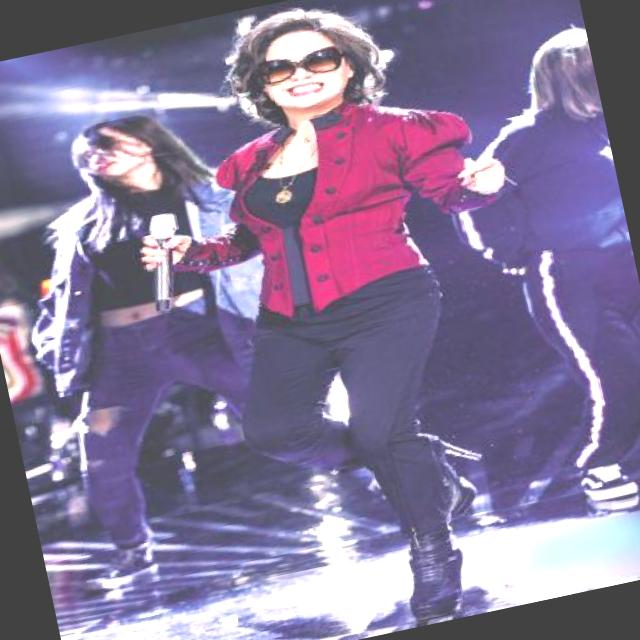Person: (152, 0, 577, 640)
